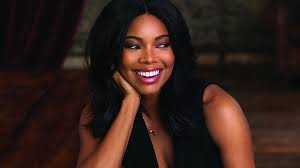black_female: (101, 4, 193, 105)
